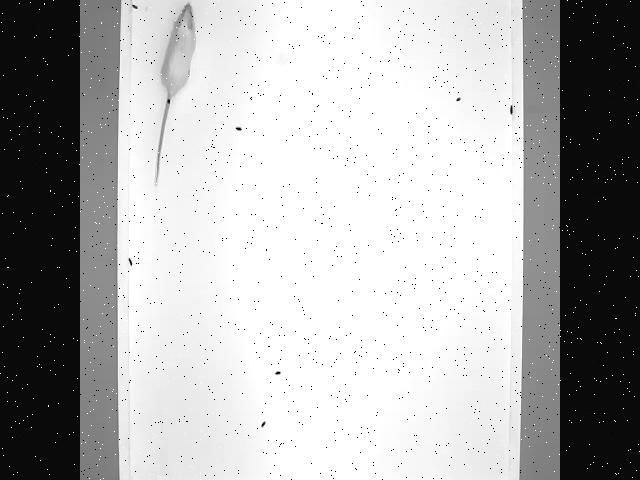Tikus: (149, 0, 198, 188)
